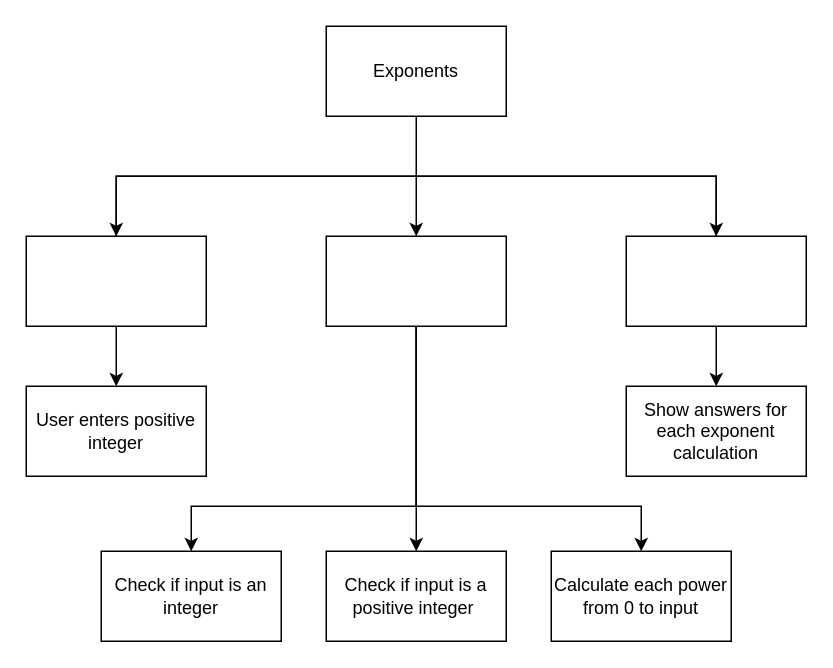
Image size: 833x668. Some labels were removed from this diagram. The box of each missing label's shape, as (x1, y1, x2, y2) in pixels:
Input: (25, 235, 206, 326)
Output: (625, 235, 806, 326)
Process: (325, 235, 506, 326)
